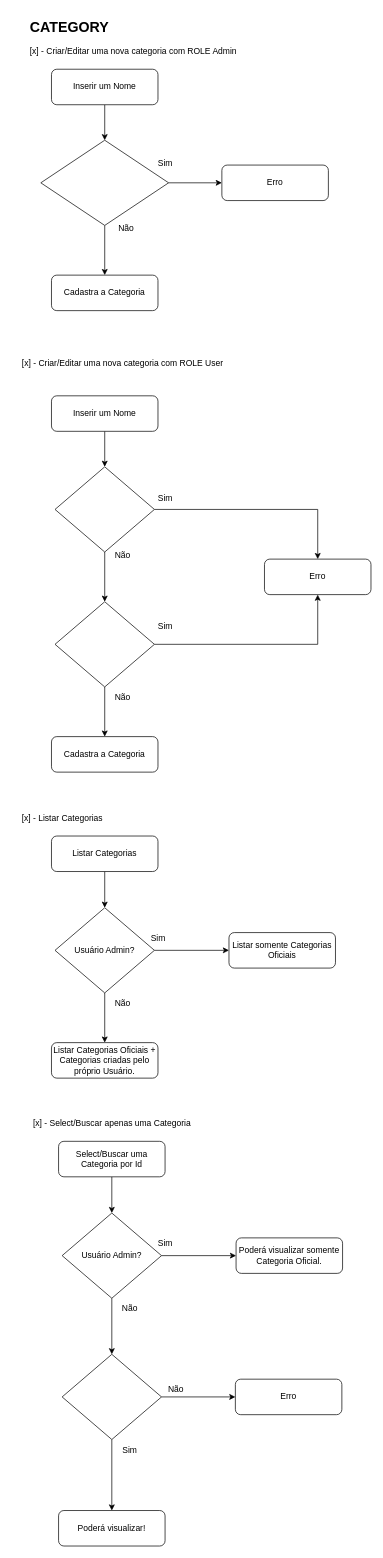
Some shapes in this 383 by 1558 pixel diagram are drawn without their labels. The shapes that lost their labels are listed below. From the top down, each one's box as (x1, y1, x2, y2) in pixels, then its label:
(40, 140, 169, 225): Já existe entre todas as Categorias (Oficiais e de qualquer Usuário)
(54, 466, 154, 552): Já existe entre as Categorias Oficiais
(54, 601, 154, 687): Já existe entre as Categorias criada pelo próprio Usuário
(61, 1354, 162, 1440): É criado pelo Usuário que está tentando visualizar?
